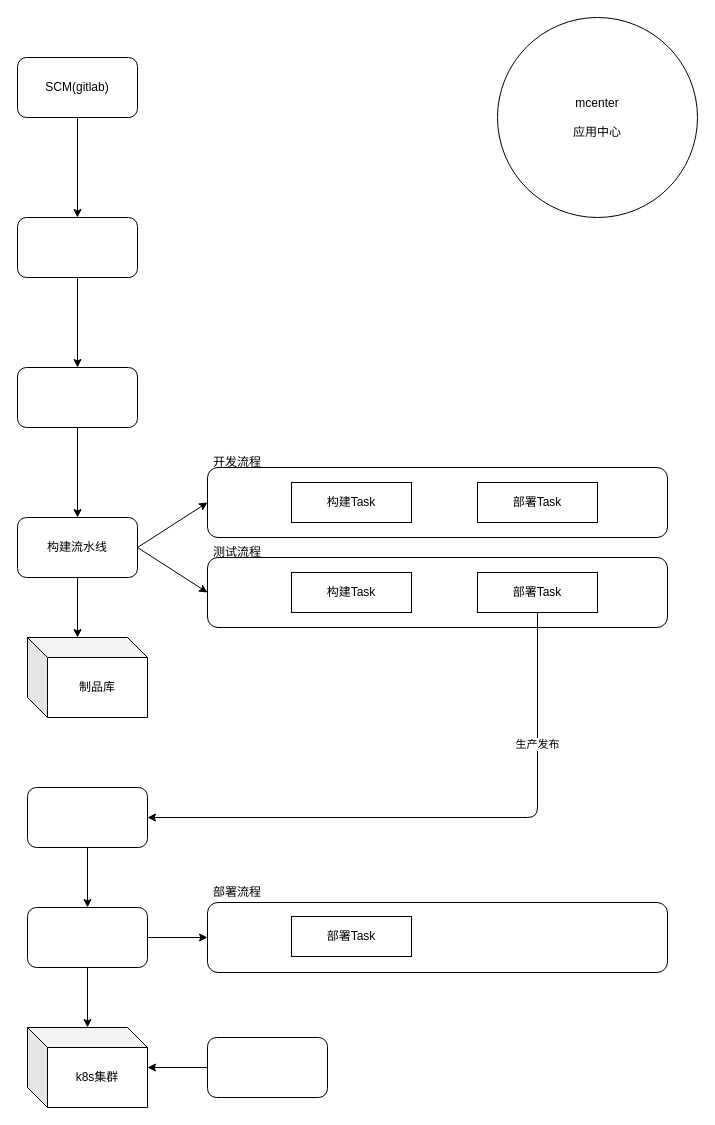
This 715x1125 diagram has some shape labels left out. Here are the shapes that lost their labels. From the top down, the centre of each, then its label:
point (77, 247): 构建触发器(WebHook)
point (77, 397): 构建配置
point (87, 817): 部署配置
point (87, 937): 部署流水线
point (267, 1067): mpaas UI
